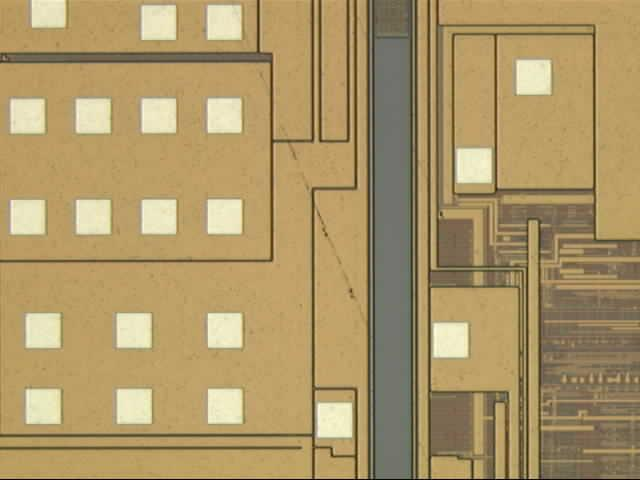SCRATCH: (215, 1, 407, 379)
